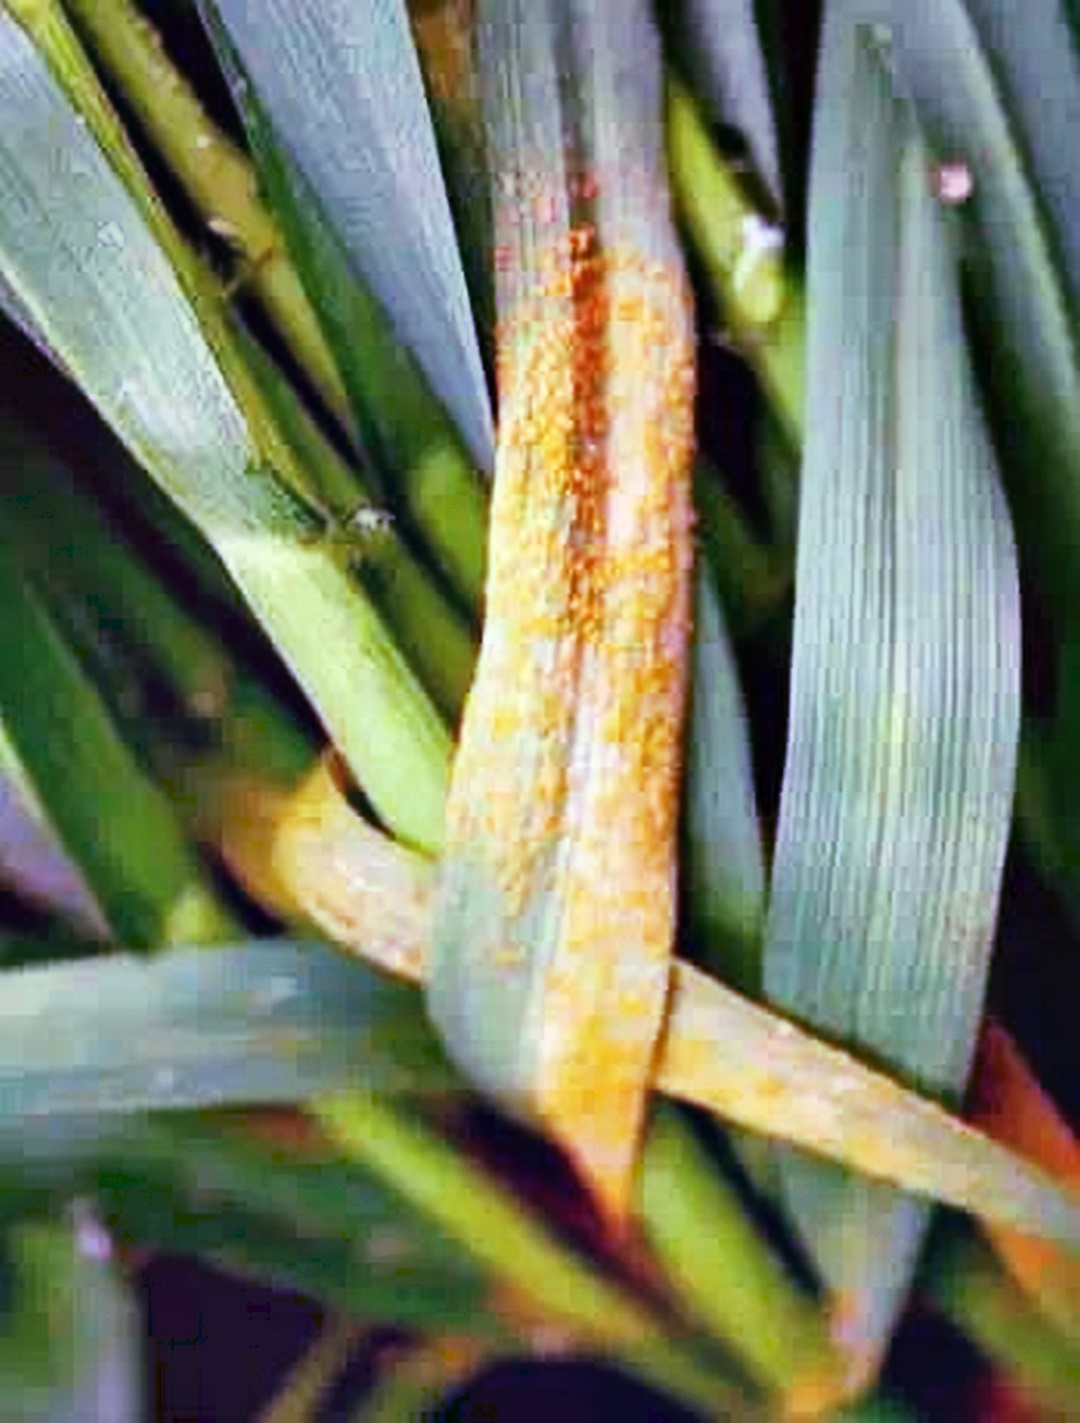Leaf Rust: (450, 209, 719, 878)
